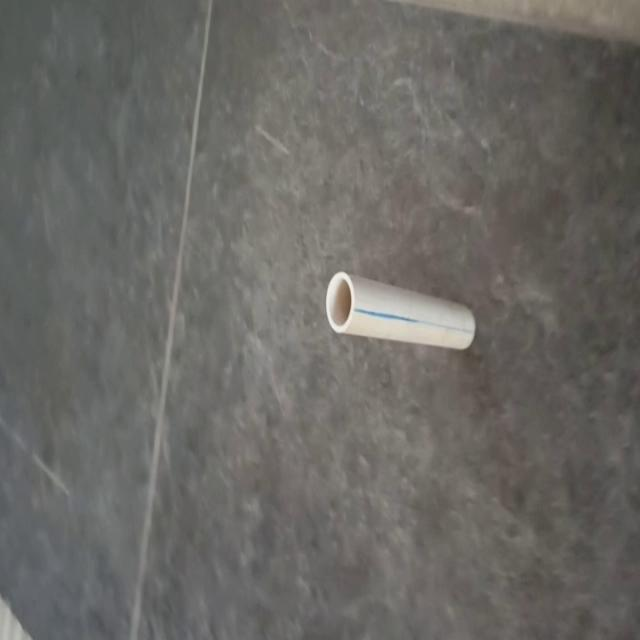Cube: (324, 269, 476, 351)
